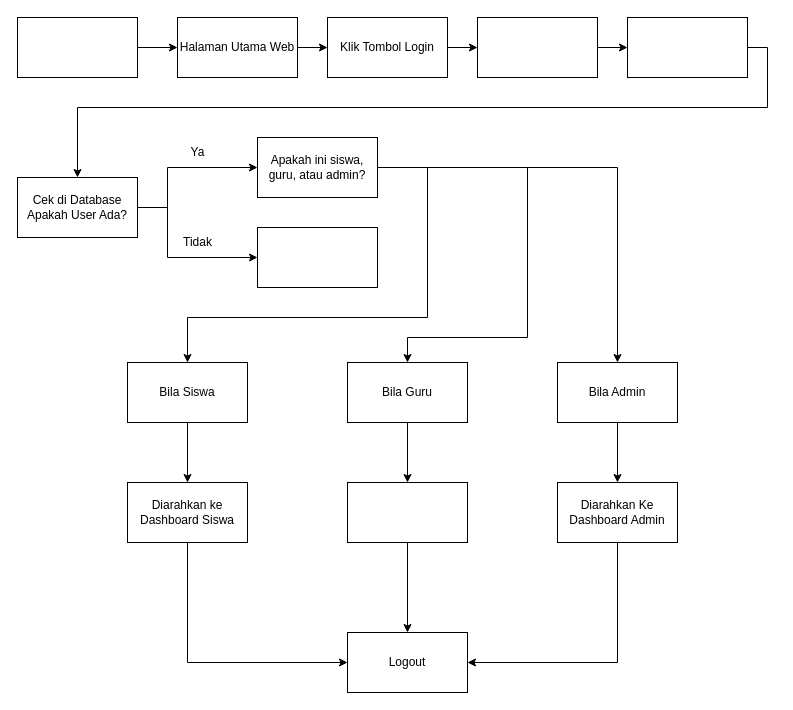
This 793x710 diagram has some shape labels left out. The centre of each missing label's shape, as x and y in pixels:
Diarahkan Ke Dashboard Guru: (407,512)
Halaman Login: (537,47)
Input Data Login: (687,47)
Tampilkan Error Login: (317,257)
Web Dibuka: (77,47)
